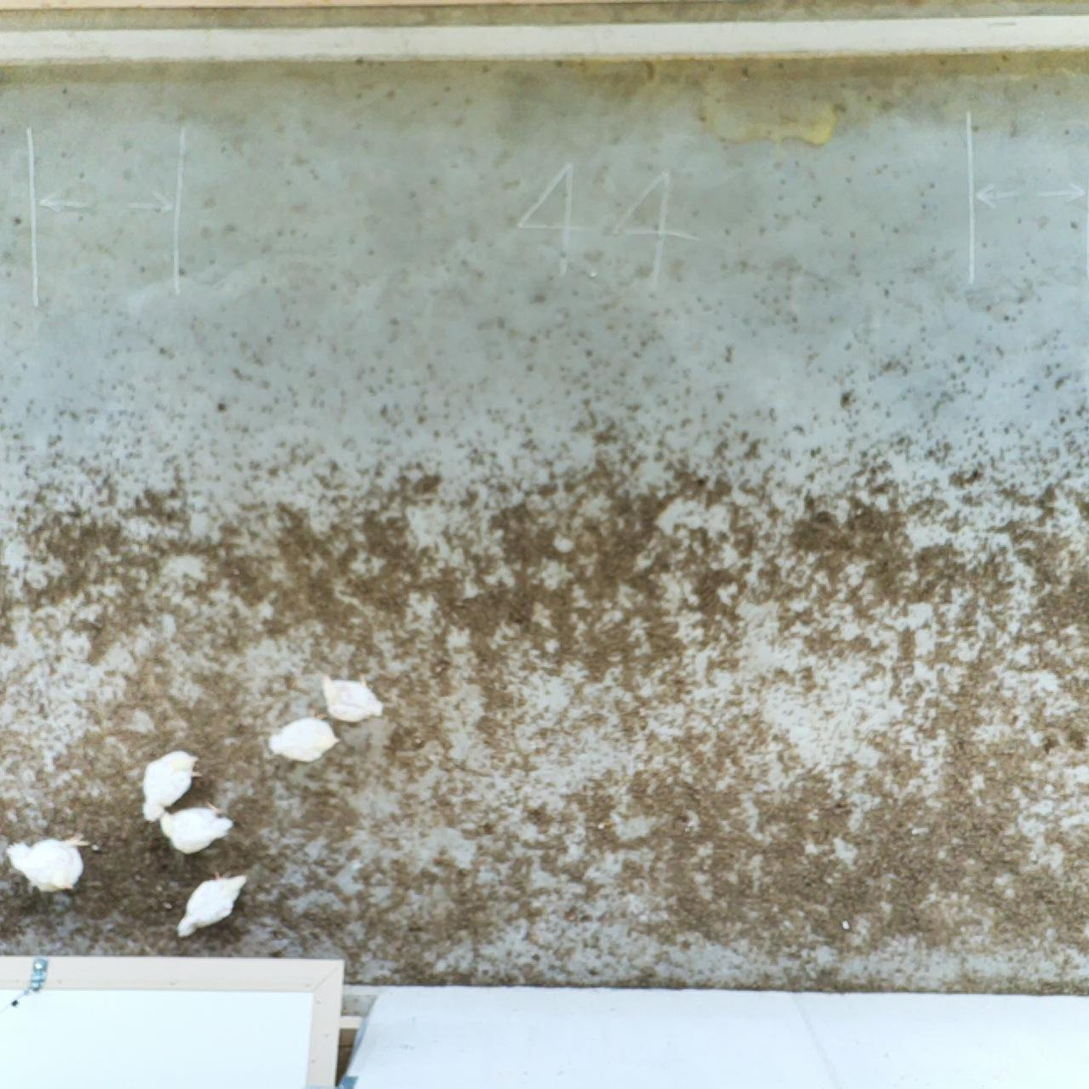chicken: (2, 829, 94, 898), (174, 865, 254, 944), (138, 744, 206, 826), (266, 705, 345, 766), (156, 798, 237, 857), (316, 666, 388, 726)
